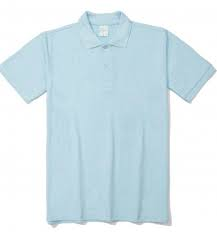C_polo shirt: (1, 15, 215, 224)
